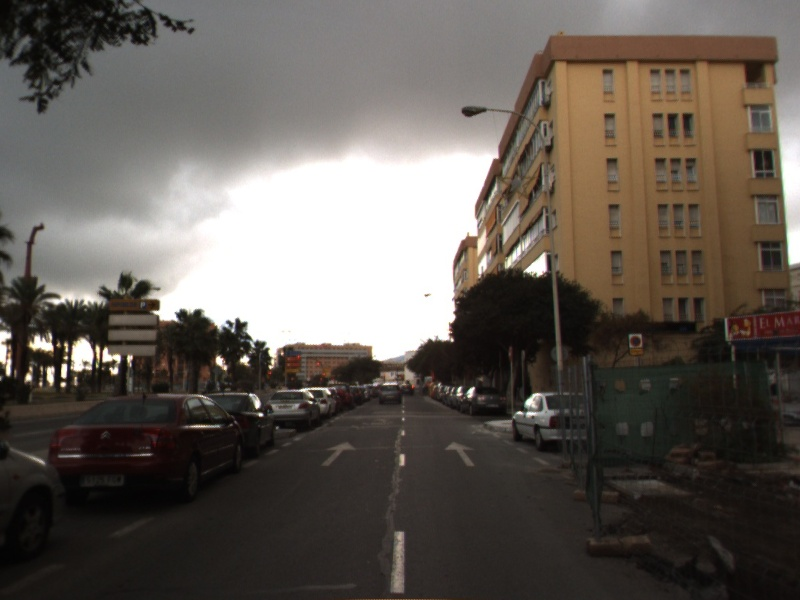STRAIGHT: (320, 440, 358, 467), (443, 440, 477, 467)
